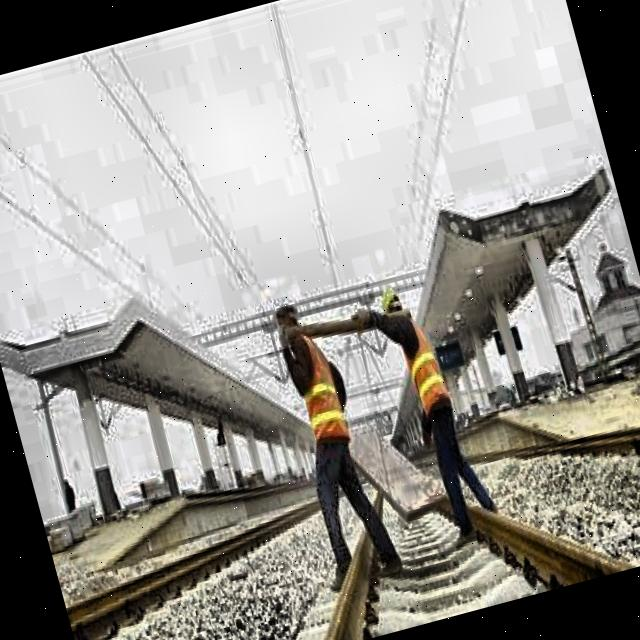helmet: (266, 280, 304, 342), (376, 278, 412, 333)
